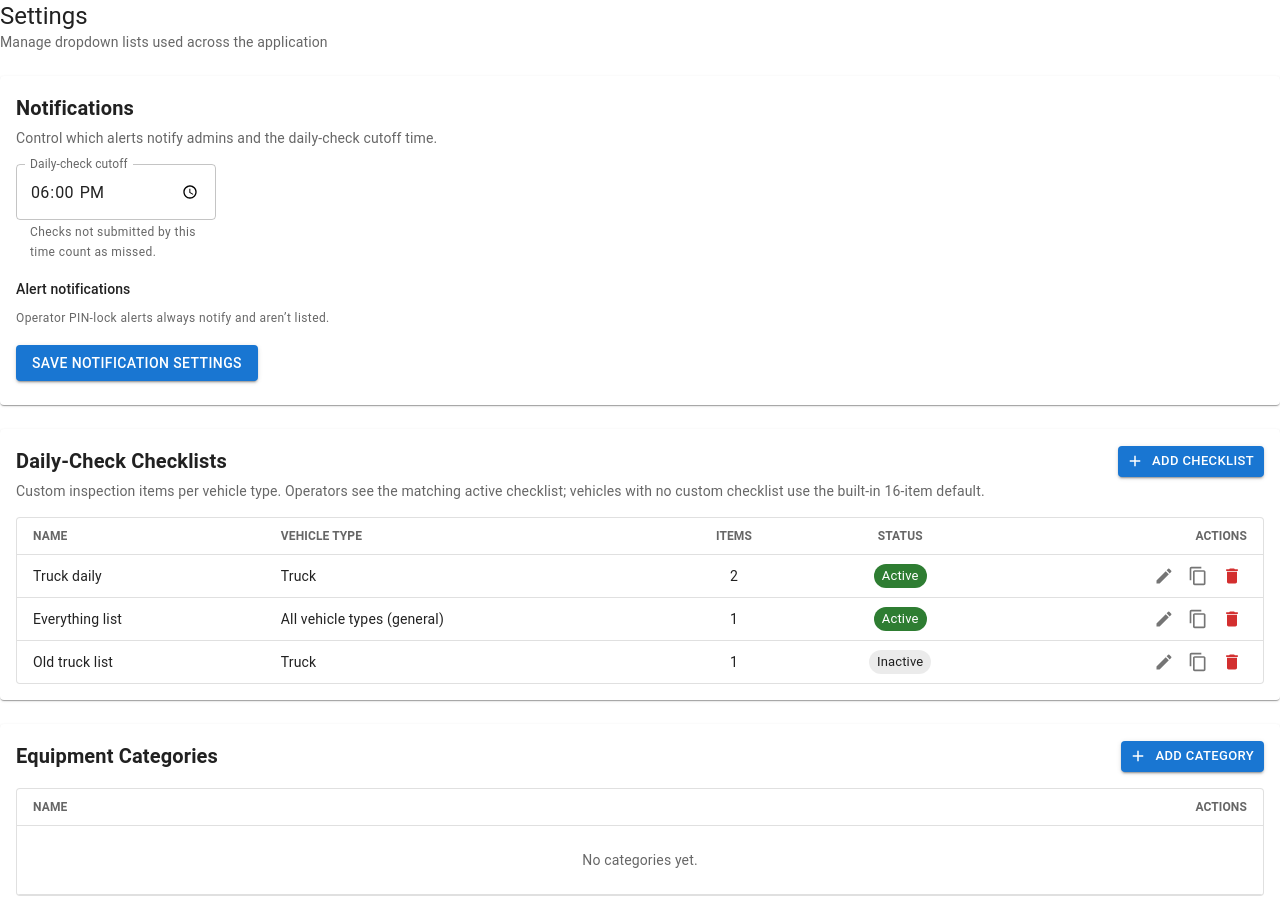
Test: UXP-6 (6e): Duplicate + inline validation › Duplicate opens create mode as "<name> (copy)" with the items carried over
The width and height of the screenshot is (1280, 900).
Check: the text "Truck daily" is shown, box [33,568,102,584]
What coordinates should you click on to do the following:
click the button named "Duplicate" in the row of "Truck daily"
I would click on:
 (1198, 576)
Its box is [1183,561,1213,591].
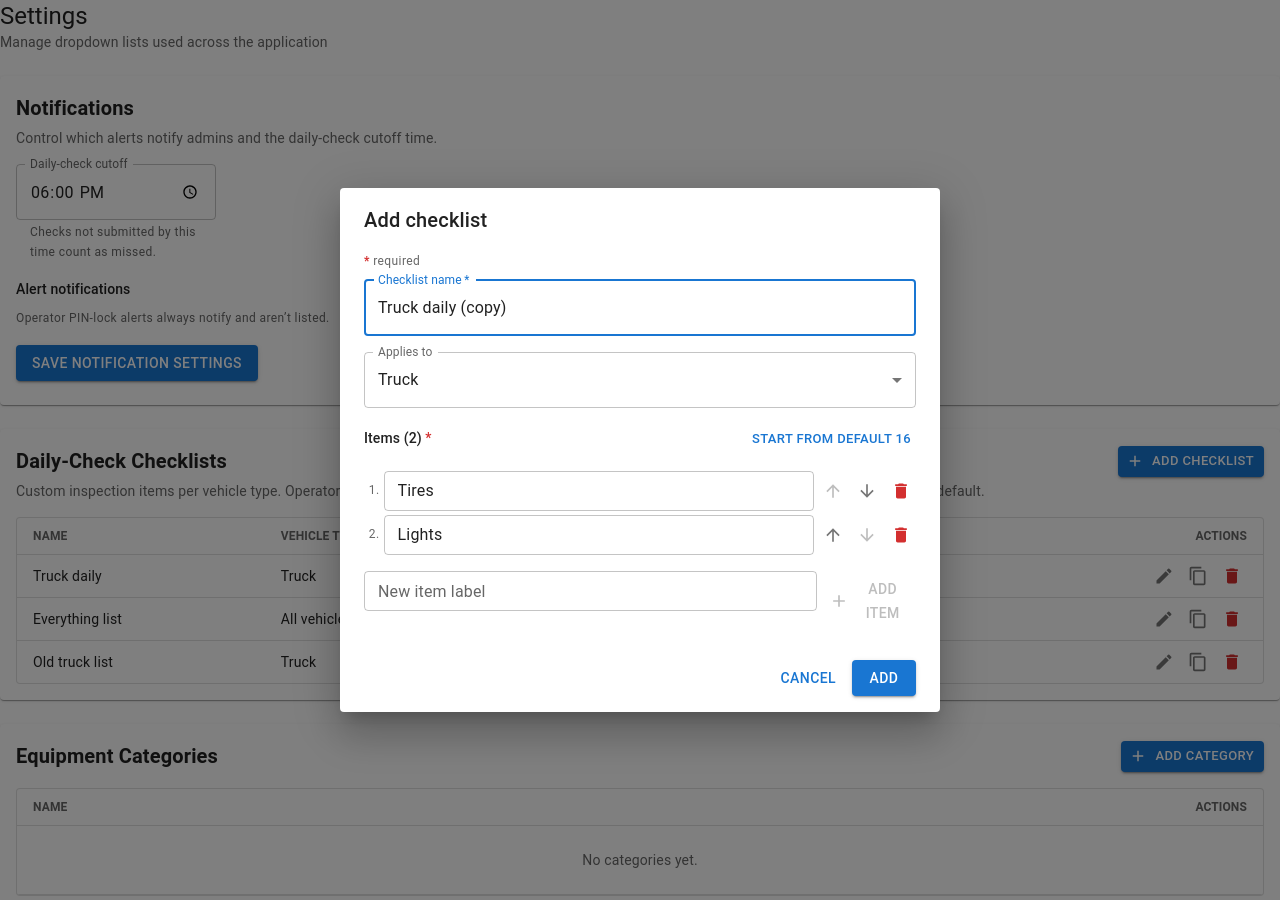
Check: the heading "Add checklist" is shown, box [364,208,487,232]
Check: the field labelled "Checklist name *" holds "Truck daily (copy)", box [364,280,916,336]
Check: the field named "Item 1" holds "Tires", box [384,471,814,511]
